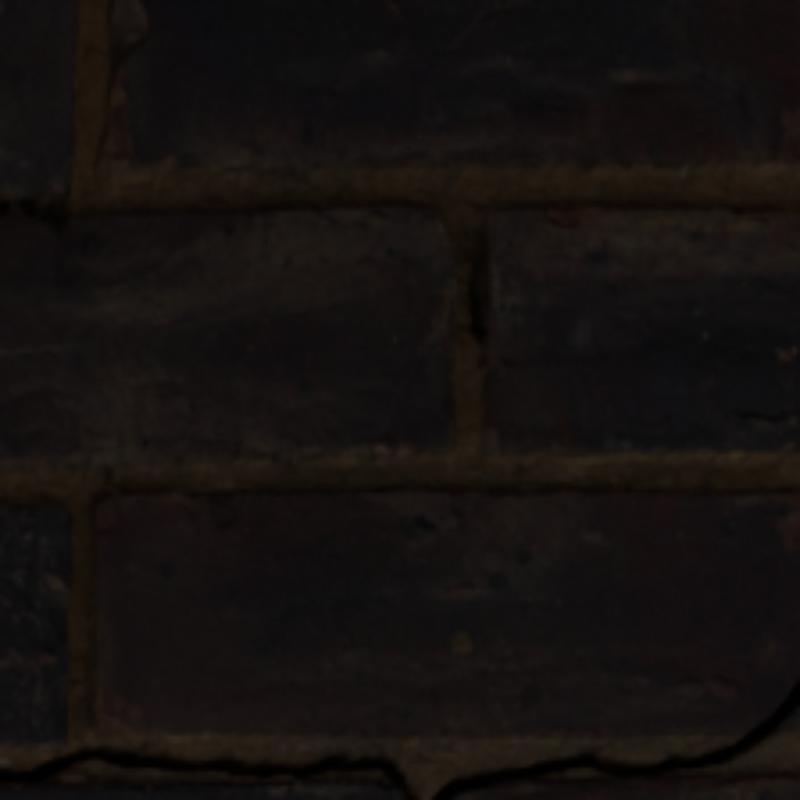pothole: (432, 679, 796, 796), (0, 746, 414, 796)
